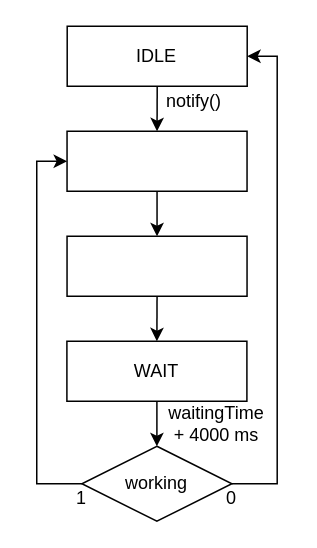
Image size: 317x548. Some labels were removed from this diagram. The shapes that lost their labels are listed below. From the top down, each one's box as (x1, y1, x2, y2) in pixels, then its label:
(66, 130, 247, 191): GENERATE
(66, 235, 247, 296): SEND
